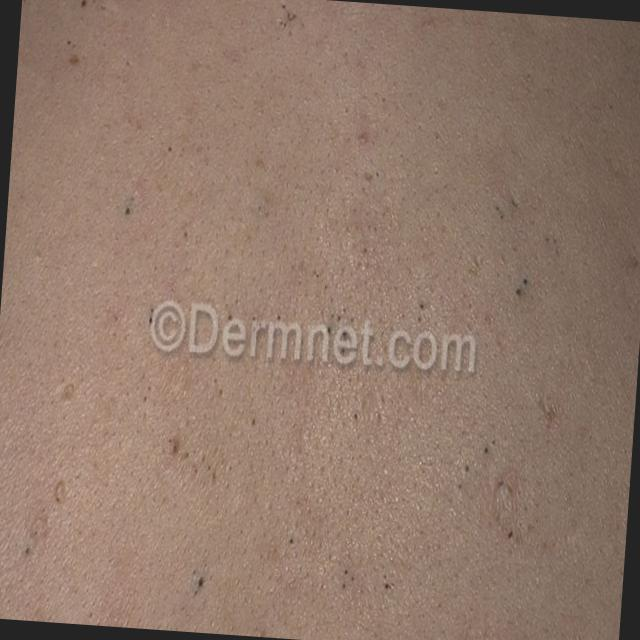blackhead: (122, 205, 132, 218), (363, 168, 372, 182), (286, 10, 296, 22), (606, 98, 614, 112), (78, 0, 88, 9), (506, 529, 514, 540), (197, 576, 204, 588), (510, 198, 518, 208), (182, 229, 188, 240), (278, 20, 286, 28), (124, 59, 131, 68), (165, 144, 172, 153), (514, 287, 521, 296), (544, 235, 550, 245), (65, 38, 72, 46), (78, 14, 85, 22), (522, 277, 528, 286), (554, 246, 560, 255), (148, 316, 153, 326), (218, 386, 223, 396), (251, 416, 256, 426), (100, 4, 106, 12), (286, 28, 292, 36), (250, 314, 256, 322), (146, 384, 152, 392), (184, 451, 190, 459), (326, 326, 332, 334), (494, 204, 500, 212), (416, 316, 422, 324), (418, 302, 424, 310), (175, 439, 180, 448), (366, 222, 371, 231), (464, 463, 469, 472), (172, 443, 176, 454), (100, 41, 106, 48), (149, 306, 154, 314), (176, 297, 181, 305), (276, 314, 281, 322), (336, 314, 341, 322), (353, 412, 358, 420), (341, 582, 346, 590), (204, 312, 210, 318), (341, 330, 347, 336), (498, 214, 504, 220), (227, 313, 232, 320), (55, 496, 60, 503), (373, 225, 378, 232), (343, 568, 348, 575), (373, 631, 378, 638), (234, 297, 238, 305), (142, 394, 146, 402), (194, 466, 198, 474), (228, 463, 232, 471), (33, 528, 37, 536), (192, 568, 196, 576), (375, 170, 379, 178), (363, 246, 367, 254), (342, 306, 346, 314), (384, 582, 388, 590), (458, 481, 462, 489), (484, 446, 488, 454), (281, 3, 286, 9), (173, 624, 178, 630), (343, 50, 348, 56), (323, 284, 328, 290), (349, 316, 354, 322), (382, 573, 387, 579), (224, 302, 228, 309), (212, 472, 216, 479), (194, 588, 198, 595), (289, 537, 293, 544), (381, 96, 385, 103), (335, 90, 339, 97), (323, 78, 327, 85), (320, 582, 324, 589), (492, 439, 496, 446), (552, 237, 556, 244), (72, 42, 76, 48), (122, 55, 126, 61), (222, 294, 226, 300), (168, 437, 172, 443), (41, 507, 45, 513), (24, 548, 28, 554), (89, 610, 92, 618), (39, 578, 43, 584), (6, 598, 10, 604), (203, 562, 207, 568), (180, 605, 184, 611), (344, 107, 348, 113), (318, 60, 322, 66), (341, 347, 345, 353), (350, 576, 354, 582), (387, 584, 391, 590), (391, 580, 395, 586), (522, 290, 526, 296), (401, 312, 405, 318), (440, 526, 444, 532), (619, 570, 623, 576), (434, 134, 438, 140), (207, 464, 210, 471), (18, 577, 22, 582), (395, 337, 399, 342), (115, 52, 118, 58), (125, 36, 128, 42), (51, 507, 54, 513), (68, 522, 71, 528), (92, 600, 95, 606), (96, 619, 99, 625), (46, 596, 49, 602), (331, 313, 334, 319), (504, 404, 507, 410), (271, 634, 275, 638), (91, 0, 96, 3), (214, 377, 216, 384), (28, 584, 30, 590), (258, 204, 260, 210), (316, 272, 318, 278), (313, 270, 316, 274), (400, 152, 402, 158), (377, 638, 381, 640)
